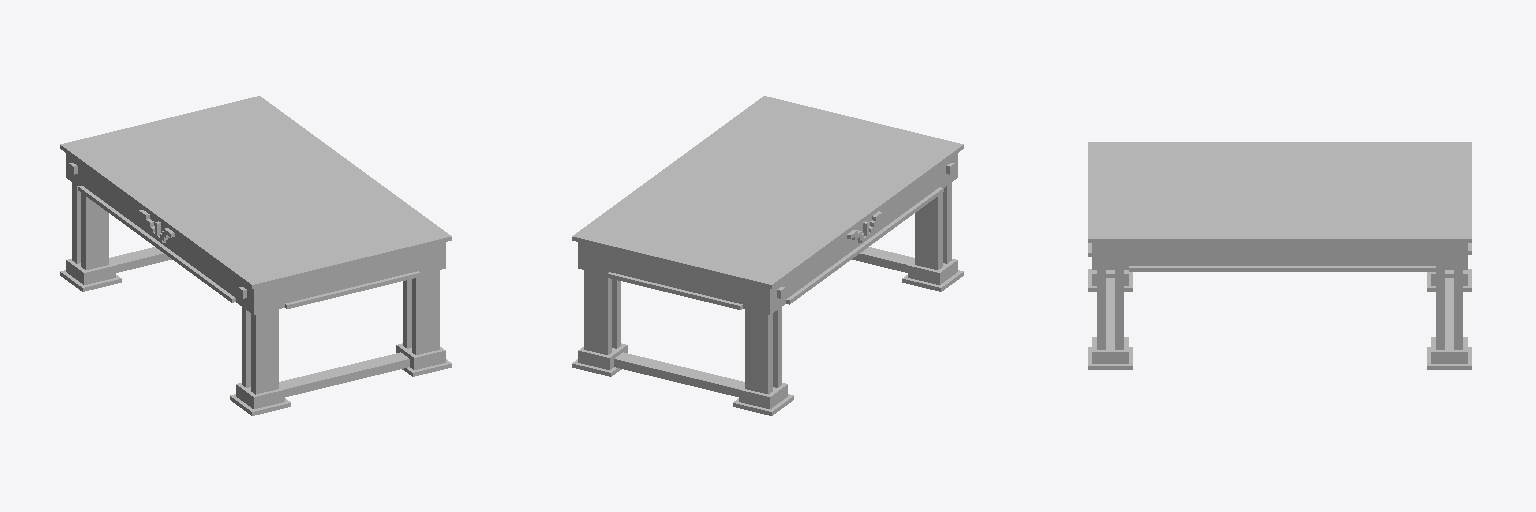
File: Table 1.obj
3 views of the same model, side by side, from view 1: azimuth 30°, elevation 25°; view 2: azimuth 150°, elevation 25°; view 3: azimuth 270°, elevation 25° (orthographic).
Visible parts, largest first — view 1: object 1; view 2: object 1; view 3: object 1.
Part boxes in pixels (x1,y1,x2,y2): object 1: (60, 96, 451, 415); object 1: (572, 96, 963, 415); object 1: (1088, 142, 1471, 369).
Bounding box in the file's own units: 5.1 × 3.2 × 8.5.